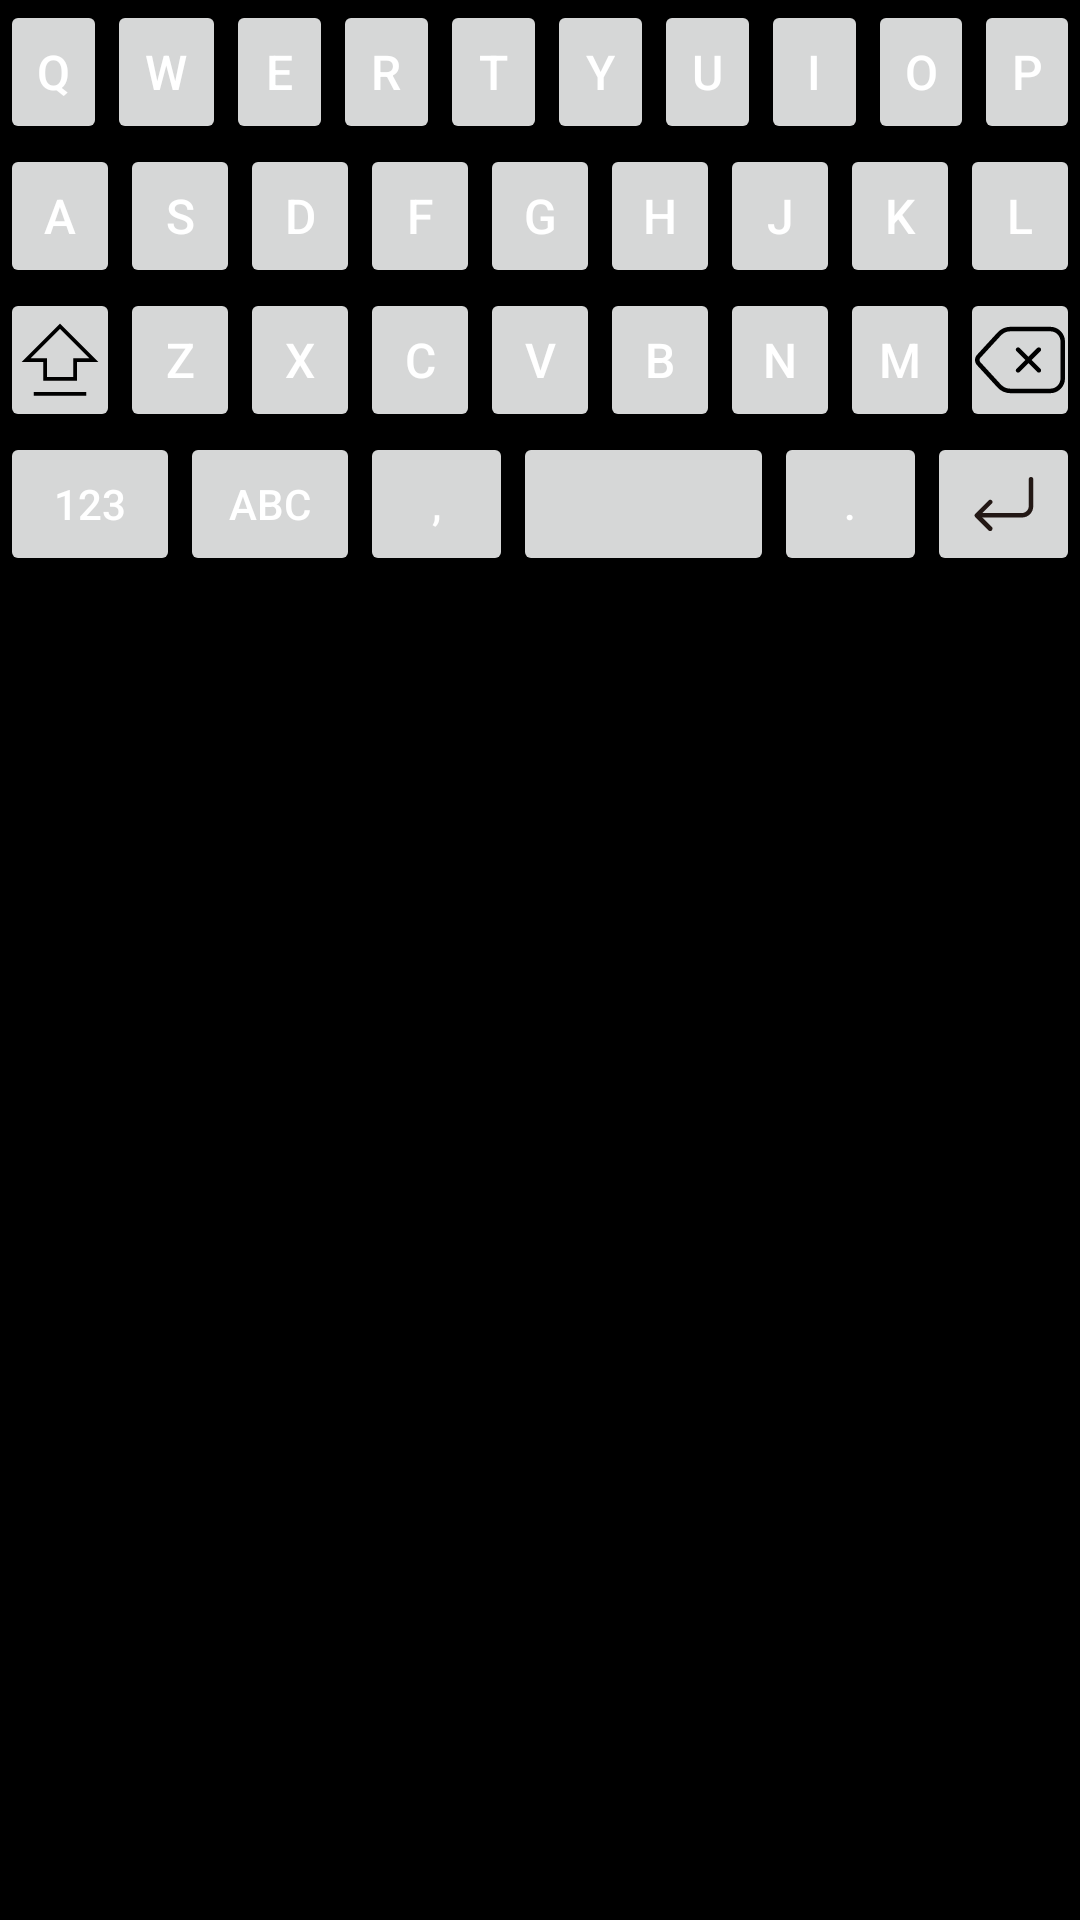

Icon bounding boxes for this 1080*1920 phone screenshot, format (x1, y1, x2, y2):
DELETE: (972, 306, 1068, 414)
DONE: (939, 450, 1068, 558)
SHIFT: (12, 306, 108, 414)
